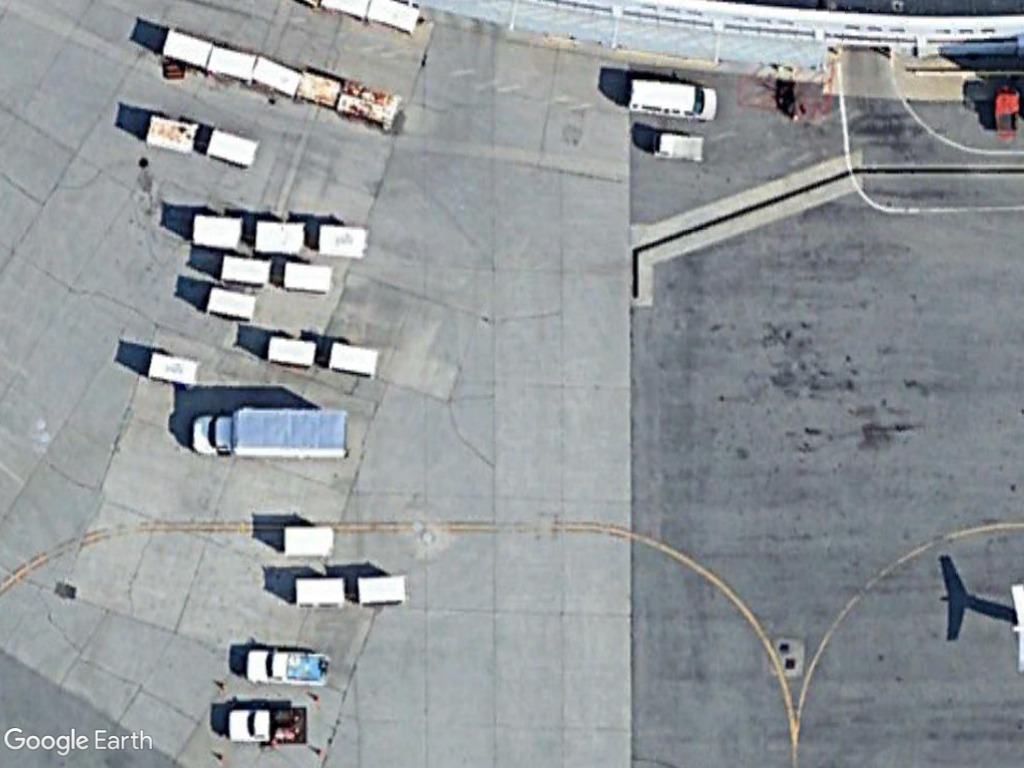other: (239, 640, 332, 689), (222, 705, 311, 745)
truck: (187, 402, 352, 468)
van: (623, 71, 722, 126)
